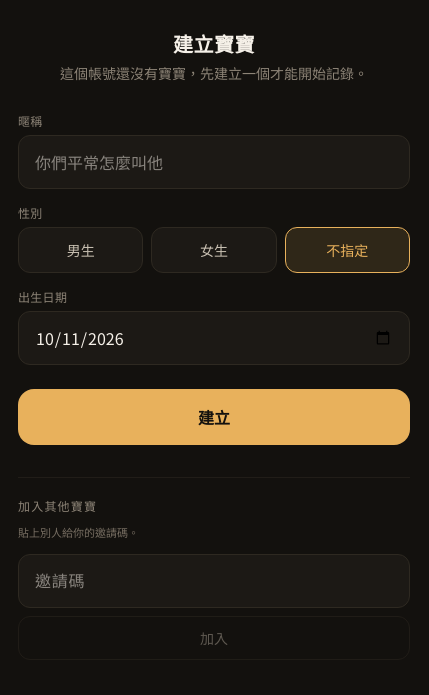
Test: an account with no baby yet › will not create one without a name
The image size is (429, 695).
What coordinates should you click on to do the following:
click the button with test id "submit"
I would click on:
 (214, 417)
Its box is [18,389,410,445].
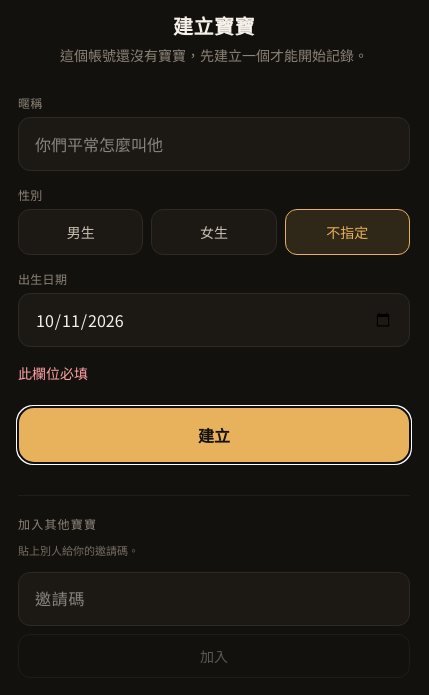
expect the text with test id "form-error" reads "此欄位必填": met, box [18,363,88,383]
